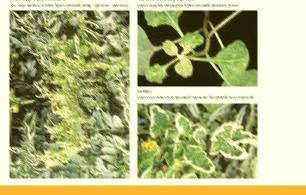Tomato leaf yellow virus: (211, 38, 256, 82), (210, 120, 254, 161), (183, 145, 217, 176), (146, 106, 174, 141), (170, 54, 197, 79), (171, 114, 195, 141)
